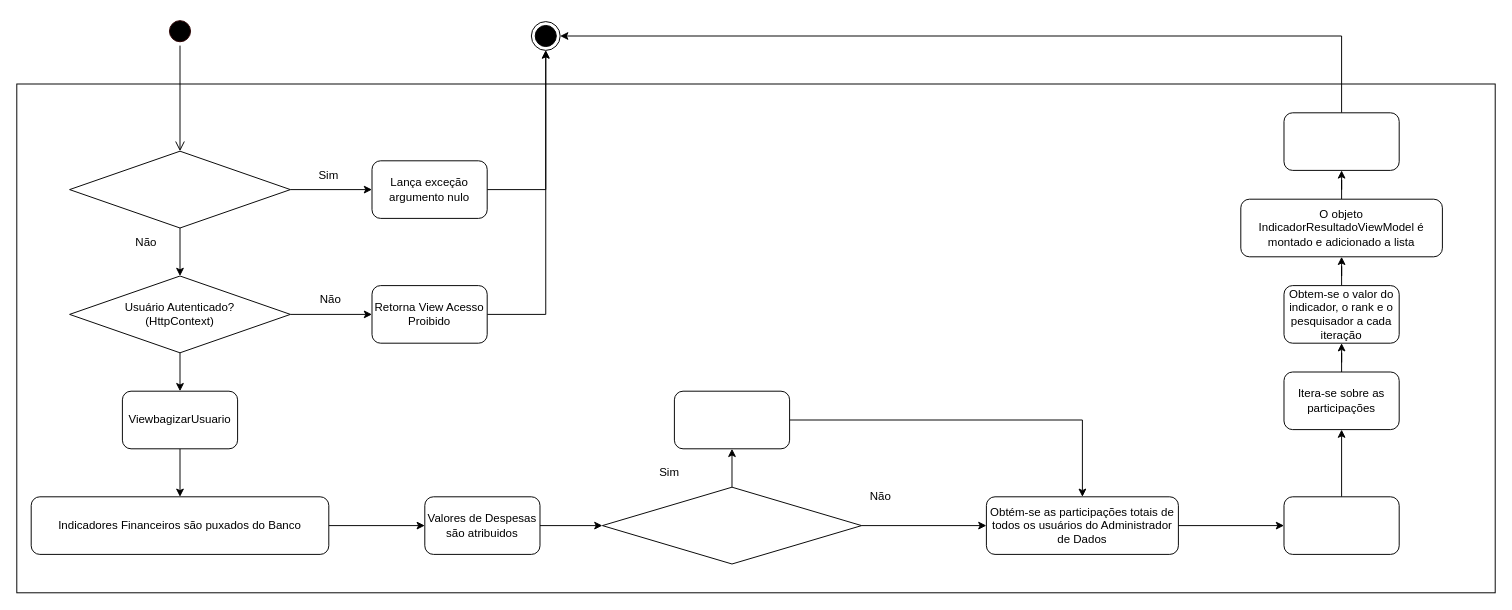
This 1512x610 diagram has some shape labels left out. The shapes that lost their labels are listed below. From the top down, each one's centre as x and y in pixels, then its label:
[1341,141]: A lista é finalizada, serializada e retornada como string JSON
[179,189]: nomeIndicador nulo ou vazio?
[731,419]: Obtém-se as prospecções do administrador de dados
[731,525]: _prospeccoes está com quantidade 0?
[1341,525]: Participações totais são rankeadas
